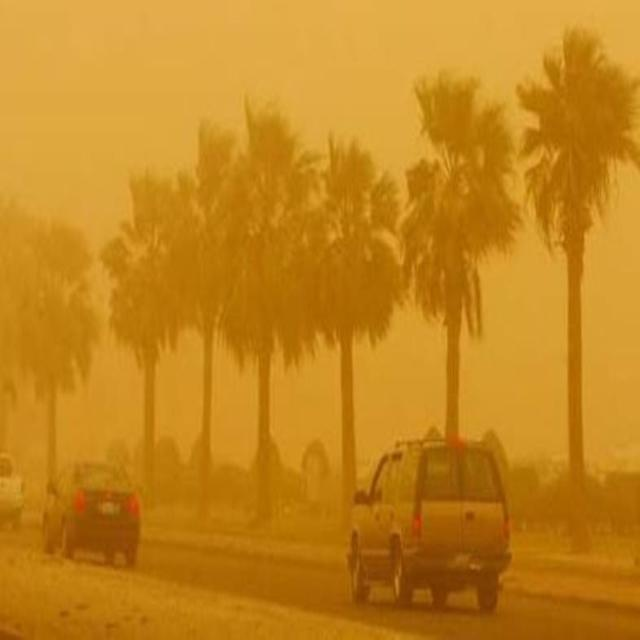car: (344, 434, 514, 612), (41, 461, 142, 567), (0, 450, 24, 529)
